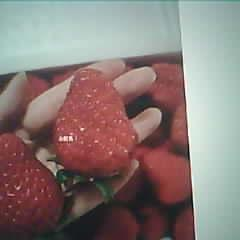straw-ripe: (54, 69, 137, 183), (0, 132, 65, 240)
